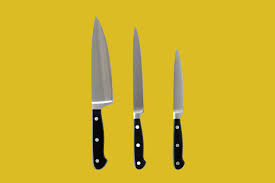knife: (90, 14, 113, 170), (131, 24, 147, 170), (172, 46, 186, 172)
